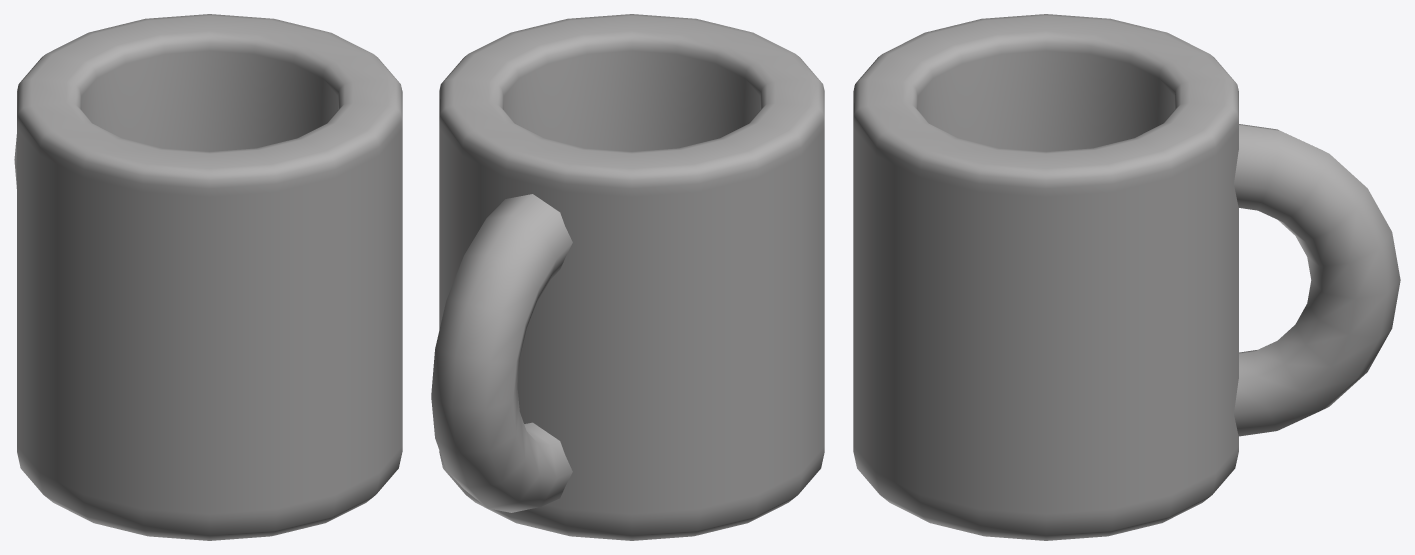
The model's file is Mug.FBX.
3 views of the same model, side by side, from view 1: azimuth 30°, elevation 25°; view 2: azimuth 150°, elevation 25°; view 3: azimuth 270°, elevation 25° (orthographic).
Visible parts, largest first — view 1: Mug; view 2: Mug; view 3: Mug.
Part boxes in pixels (x1,y1,x2,y2): Mug: (14, 14, 402, 540); Mug: (431, 14, 824, 540); Mug: (853, 14, 1400, 540).
Size of the model in its own units: 3.18 by 3.36 by 4.44.
